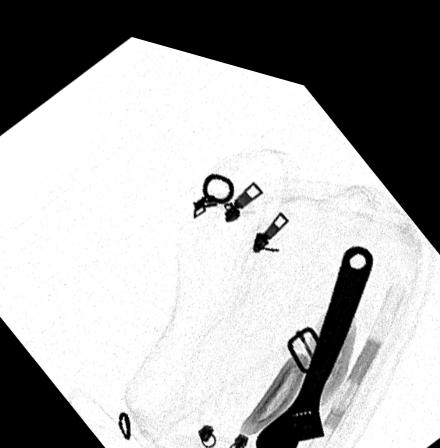Wrench: (254, 222, 375, 448)
